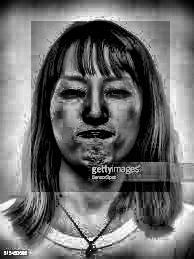angry: (32, 22, 171, 193)
